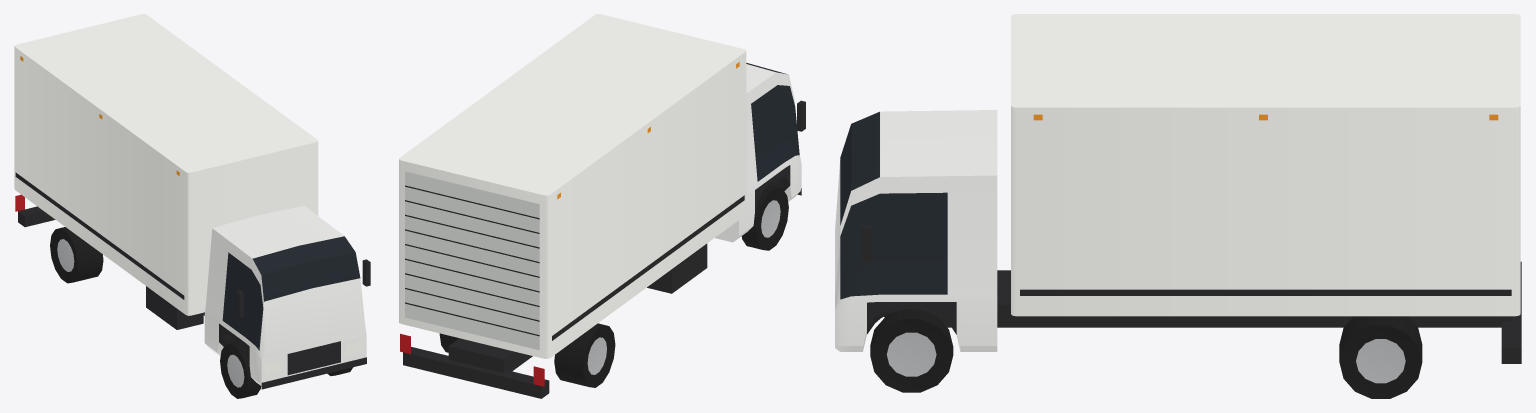
File: nyc_box_truck.glb
The picture shows the model from 3 angles, left to right: view 1: azimuth 30°, elevation 25°; view 2: azimuth 150°, elevation 25°; view 3: azimuth 270°, elevation 25°; orthographic projection. The views are drawn at different scales.
Parts seen in each view (by area): view 1: nyc_box_truck; view 2: nyc_box_truck; view 3: nyc_box_truck.
Boxes of the visible parts, x1,y1,x2,y2 form: nyc_box_truck: [14, 14, 370, 398]; nyc_box_truck: [399, 14, 805, 398]; nyc_box_truck: [835, 14, 1521, 398].
Size of the model in its own units: 2.48 by 3.59 by 7.62.
Materials: 1 (1 with a texture image).
